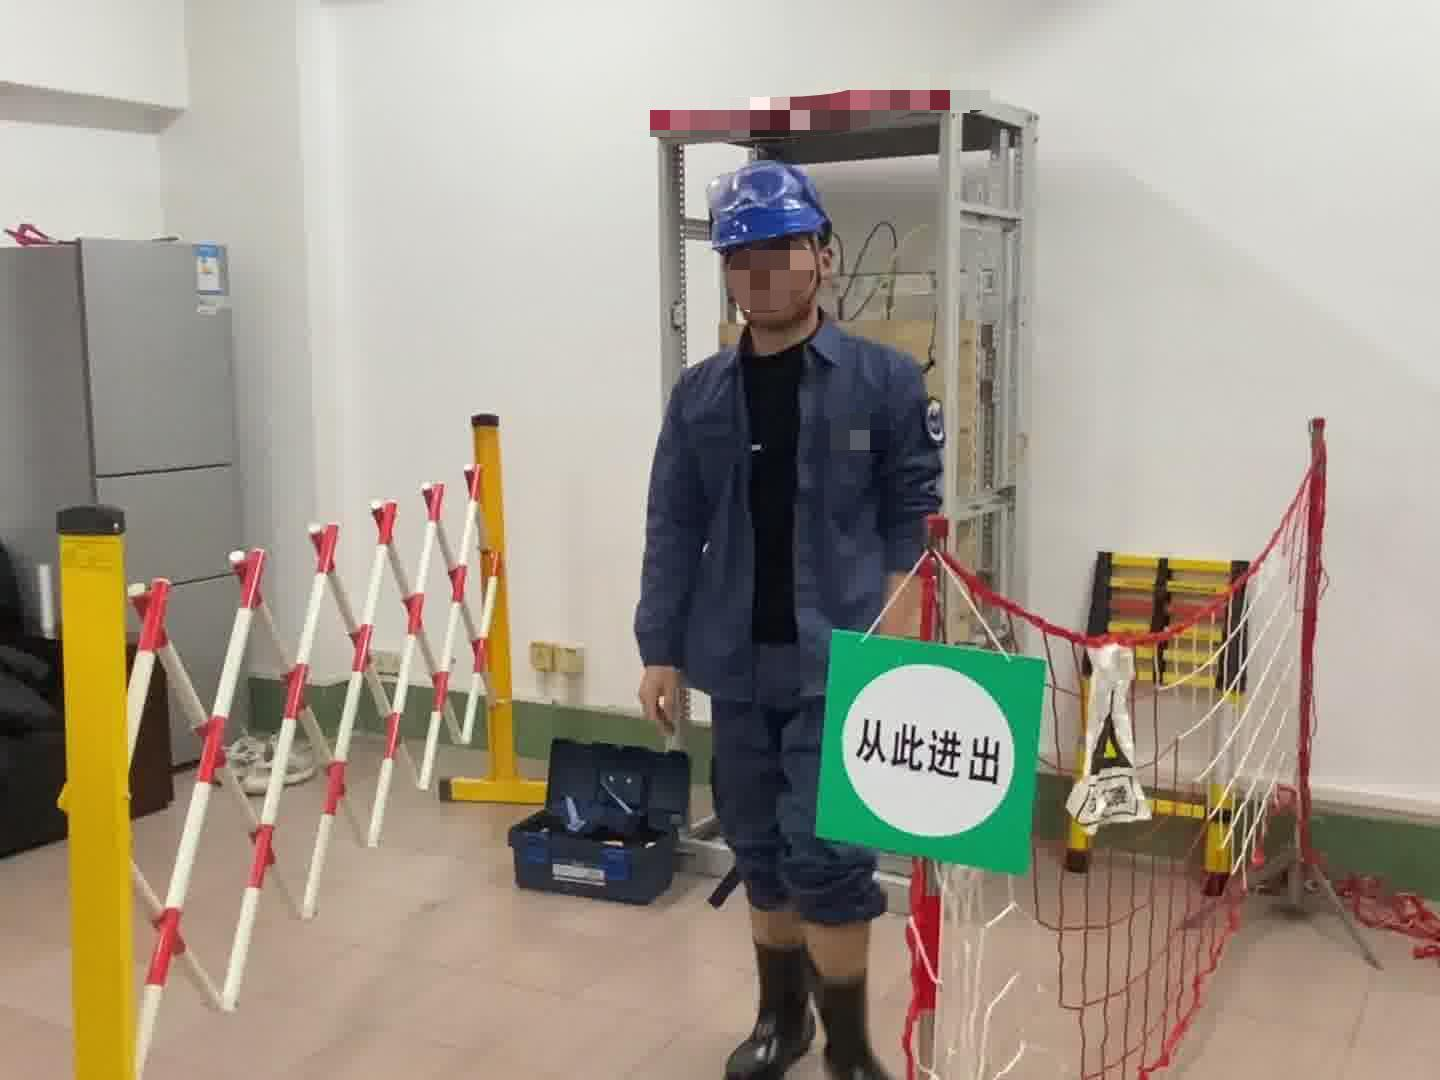halt: (705, 159, 845, 351)
